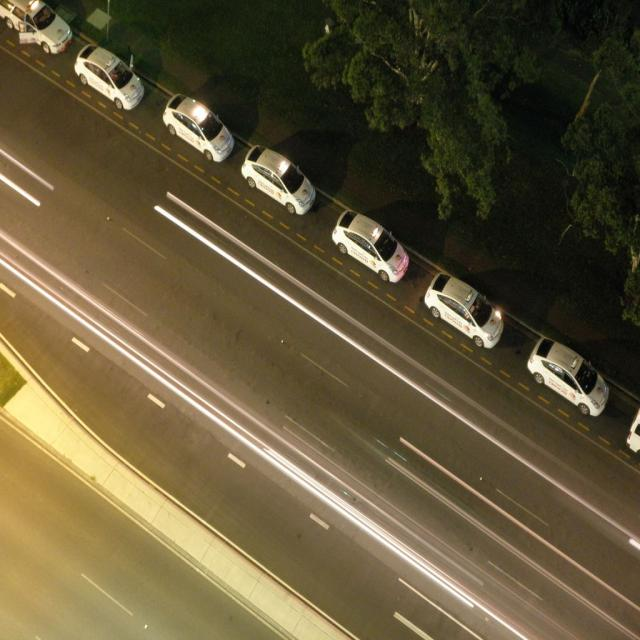car: (526, 335, 610, 415), (332, 204, 409, 291), (425, 270, 505, 345), (157, 89, 232, 164), (240, 139, 314, 215), (72, 40, 145, 112)
